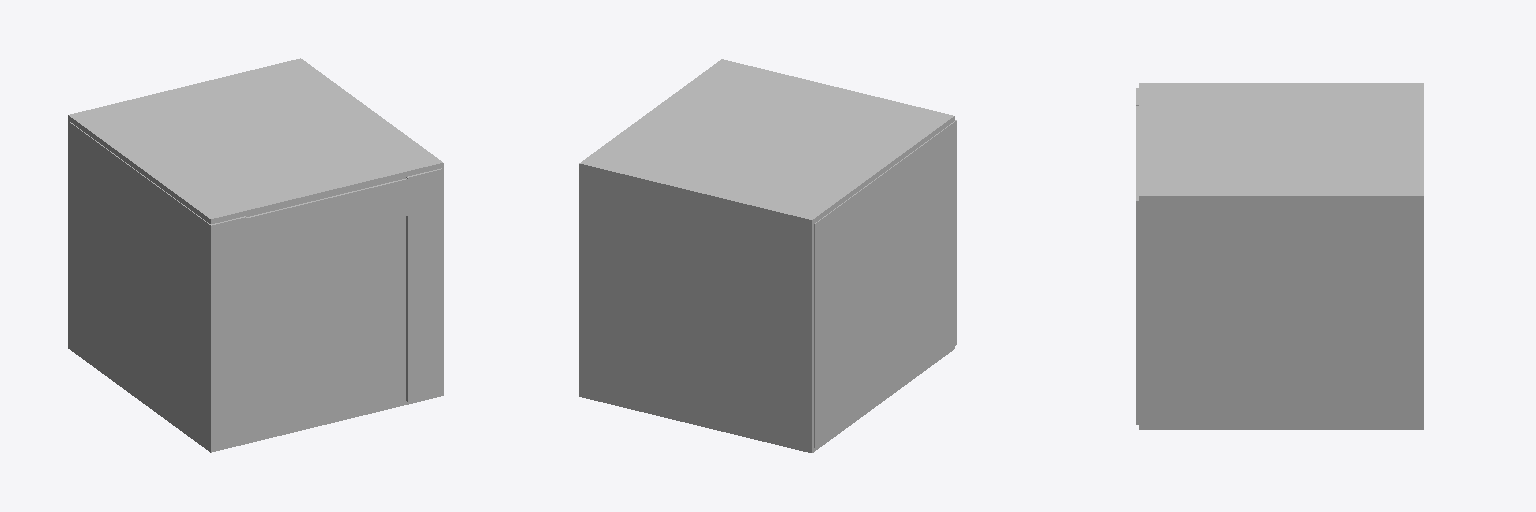
3 views of the same model, side by side, from view 1: azimuth 30°, elevation 25°; view 2: azimuth 150°, elevation 25°; view 3: azimuth 270°, elevation 25° (orthographic).
Parts seen in each view (by area): view 1: HITBOX_MODEL_Cube.007, WALL1_Cube, WALL2_Cube.002, CEILING_Cube.003; view 2: HITBOX_MODEL_Cube.007, WALL1_Cube; view 3: HITBOX_MODEL_Cube.007, WALL2_Cube.002.
Part boxes in pixels (bbox=[...]): HITBOX_MODEL_Cube.007: bbox=[68, 58, 443, 452]; WALL1_Cube: bbox=[69, 122, 245, 449]; WALL2_Cube.002: bbox=[406, 168, 442, 401]; CEILING_Cube.003: bbox=[213, 176, 439, 263]; HITBOX_MODEL_Cube.007: bbox=[579, 59, 954, 452]; WALL1_Cube: bbox=[814, 120, 956, 447]; HITBOX_MODEL_Cube.007: bbox=[1139, 83, 1423, 429]; WALL2_Cube.002: bbox=[1136, 183, 1138, 424].
Size of the model in its own units: 5.9 by 5.63 by 6.29.